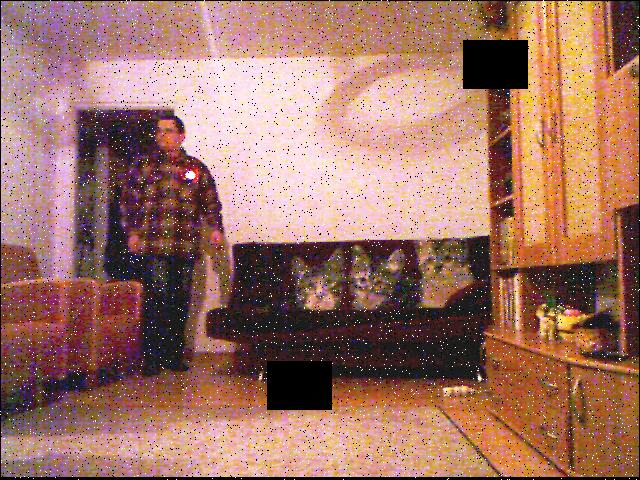walking: (92, 106, 236, 388)
